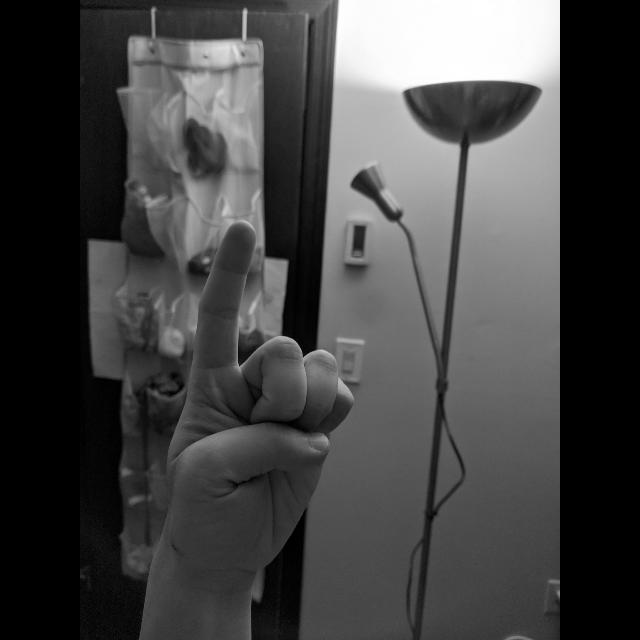D: (144, 215, 358, 579)
